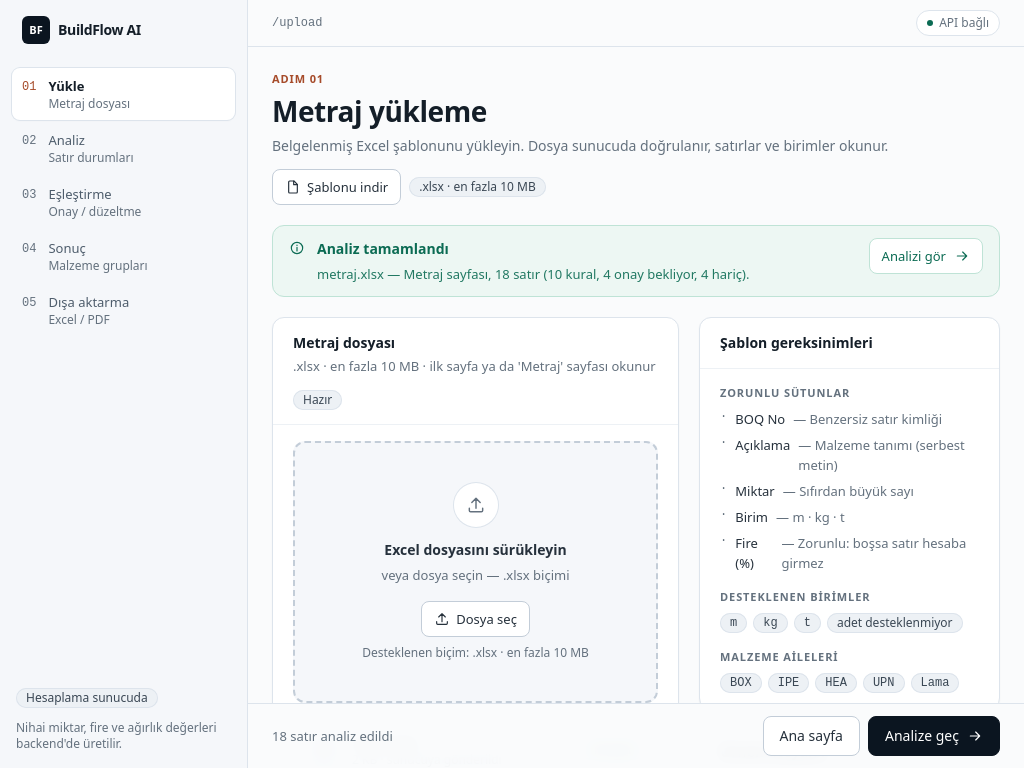
Test: ReviewPage › AI önerisi varsayılan seçili gelmez, onay düğmesi kilitlidir
Earlier steps of the test are not shown.
Expected: the text "Analiz tamamlandı" is shown, 317,239 -> 449,258
Step 1. Click the button "Analize geç" → [934, 736], box 868,716 -> 1000,756
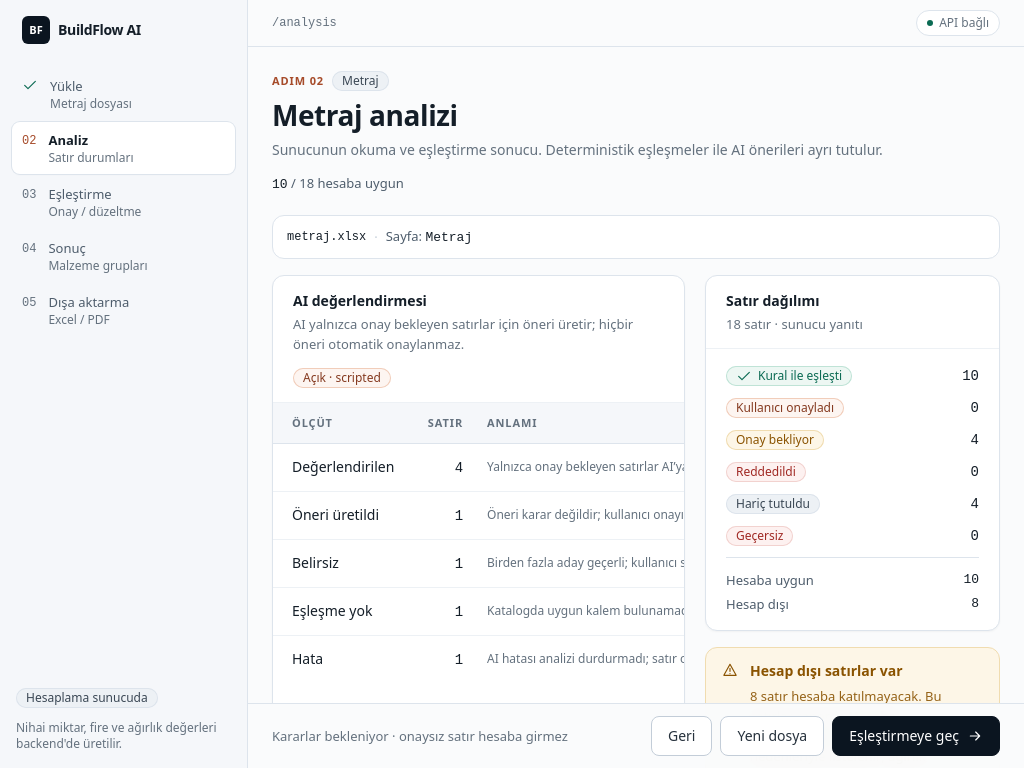
Result: the heading "Metraj analizi" is shown at 272,96 -> 458,134
Step 2. Click the button "Eşleştirmeye geç" → [916, 736], box 832,716 -> 1000,756
(page scrolled)
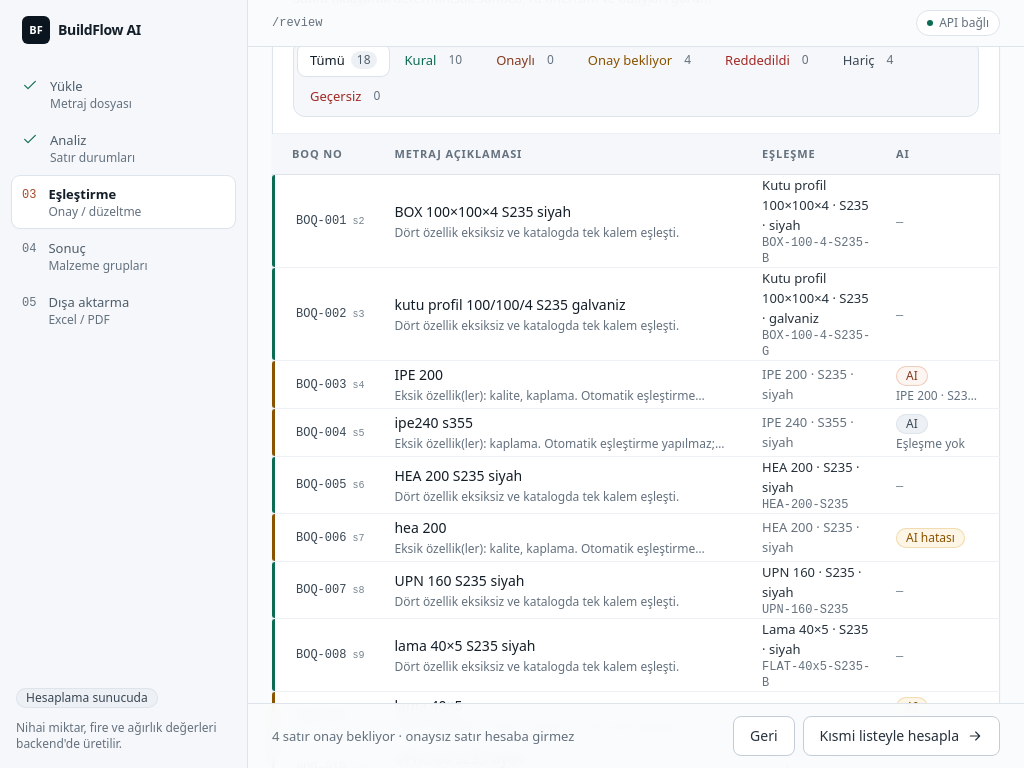
Step 3. Click the text "BOQ-003" → [648, 384], box 272,360 -> 1023,408
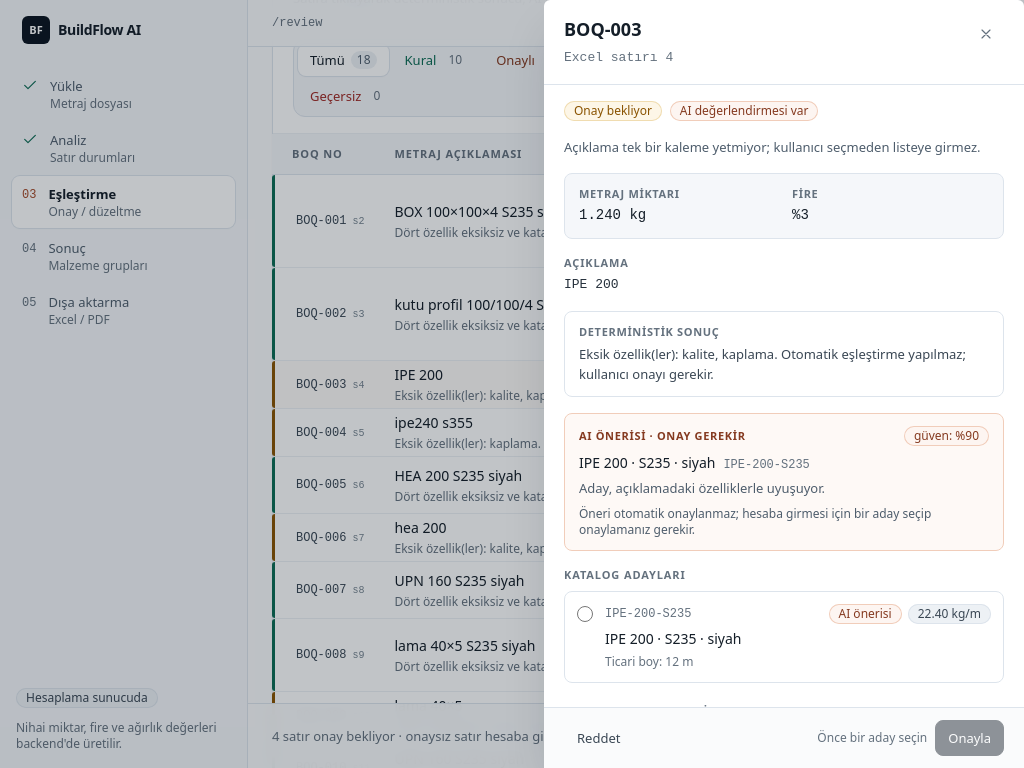
Result: the text "AI önerisi · onay gerekir" is shown at 579,428 -> 746,444
Result: the text "Öneri otomatik onaylanmaz" is shown at 579,505 -> 931,538
Result: the text "Önce bir aday seçin" is shown at 817,730 -> 927,746
